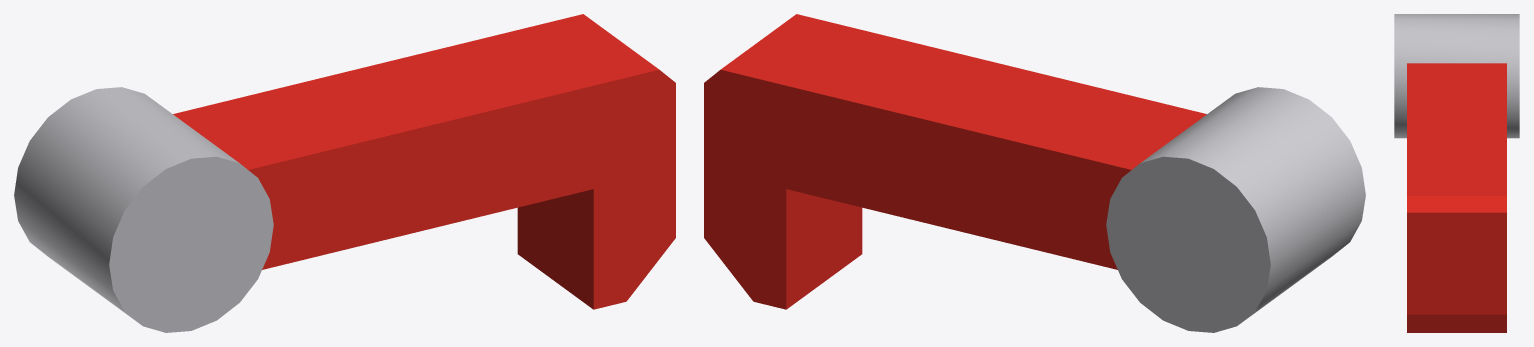
The model's file is hook_rear_a.obj.
3 renders of one model, left to right at view 1: azimuth 30°, elevation 25°; view 2: azimuth 150°, elevation 25°; view 3: azimuth 270°, elevation 25°, orthographic. The views are drawn at different scales.
Parts seen in each view (by area): view 1: main, boss; view 2: main, boss; view 3: main, boss.
Part boxes in pixels (x1,y1,x2,y2): main: (173, 14, 675, 309); boss: (14, 87, 273, 332); main: (704, 14, 1206, 309); boss: (1106, 87, 1365, 332); main: (1407, 63, 1506, 332); boss: (1394, 14, 1519, 138).
Size of the model in its own units: 0.07 by 0.03 by 0.02.
